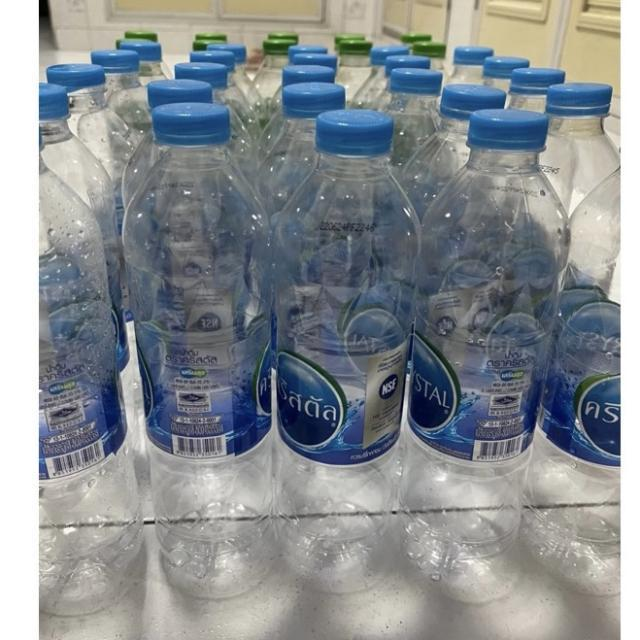PET Bottle: (130, 104, 284, 602), (421, 90, 551, 620), (29, 115, 165, 613), (42, 0, 640, 110), (278, 114, 404, 604), (559, 109, 640, 612)
